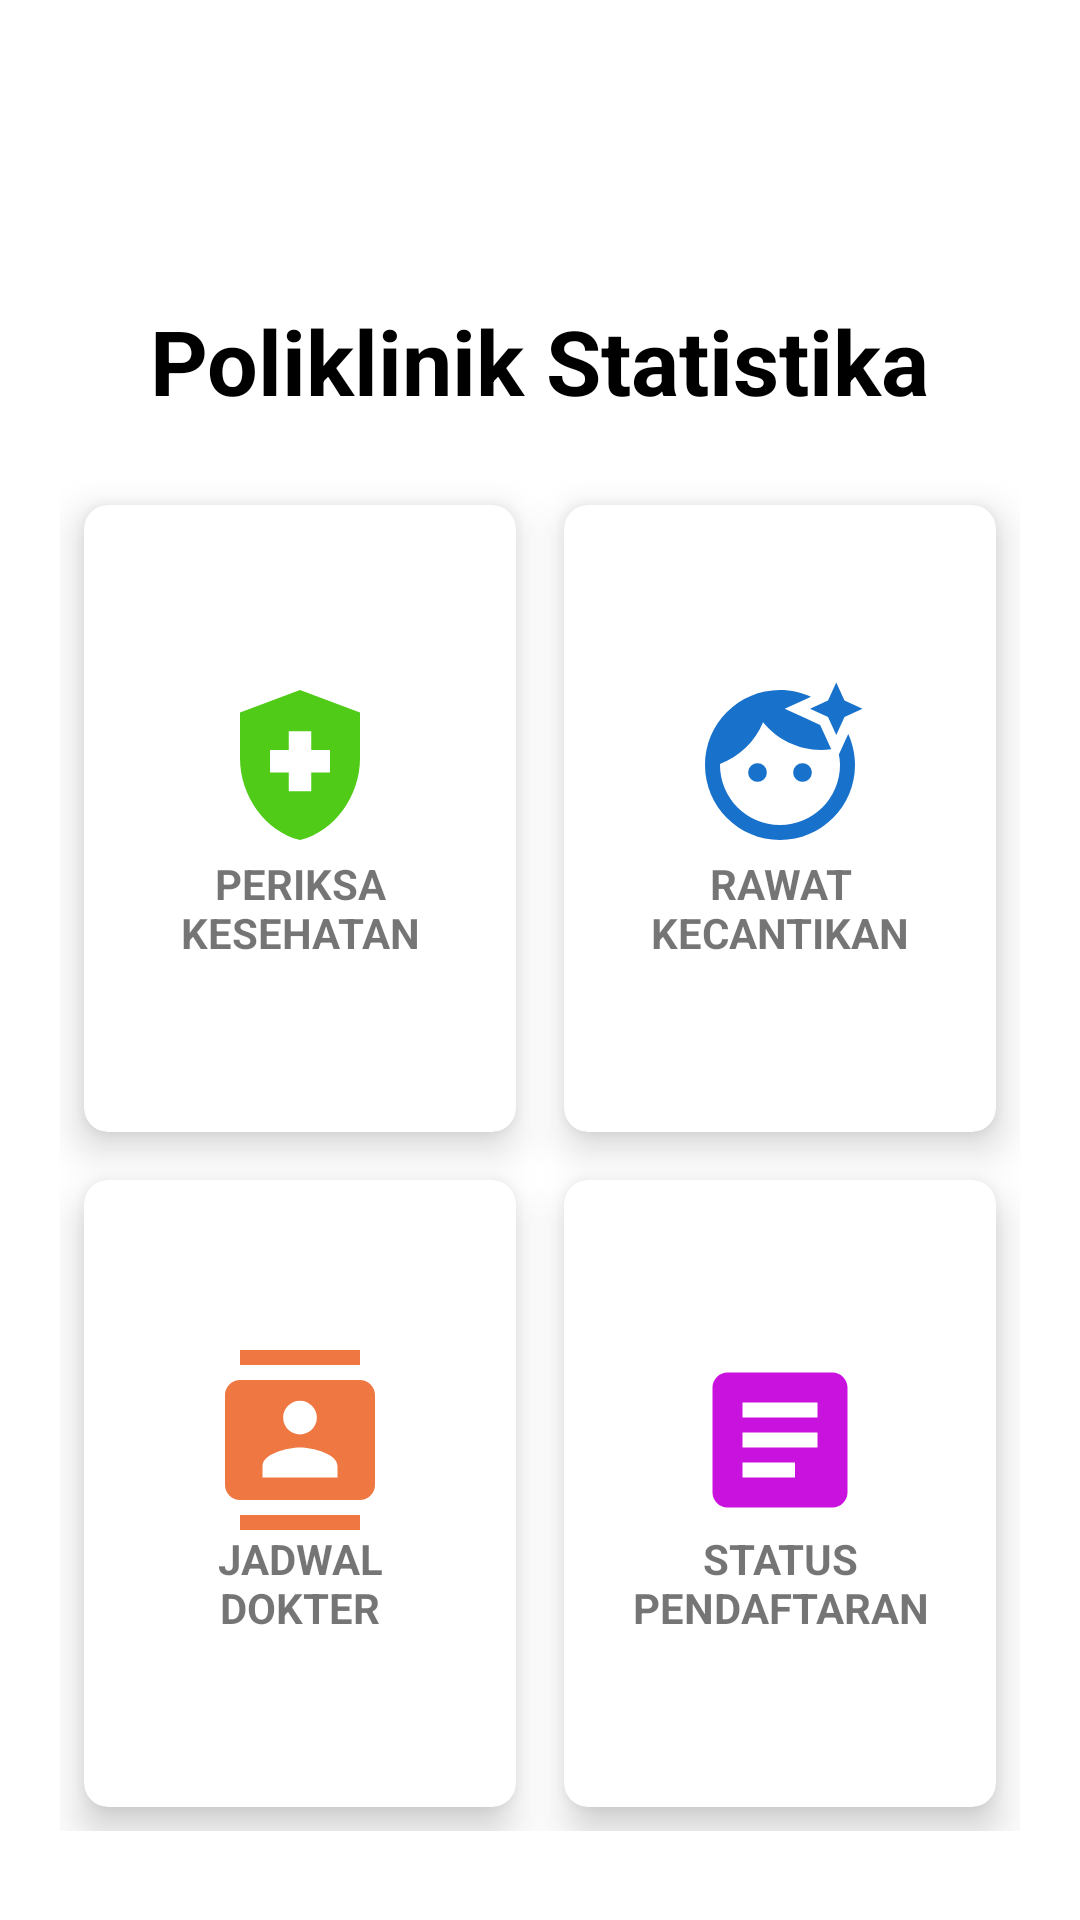

Point at icon controls on the screen. Image size 1080 x 1920, points as (x,y).
article: (780,1440)
contacts: (300,1440)
face retouching natural: (783,761)
health and safety: (300,765)
